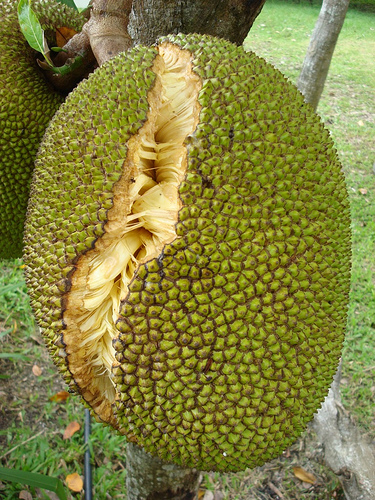jackfruit: (22, 30, 353, 475), (1, 1, 96, 262)
